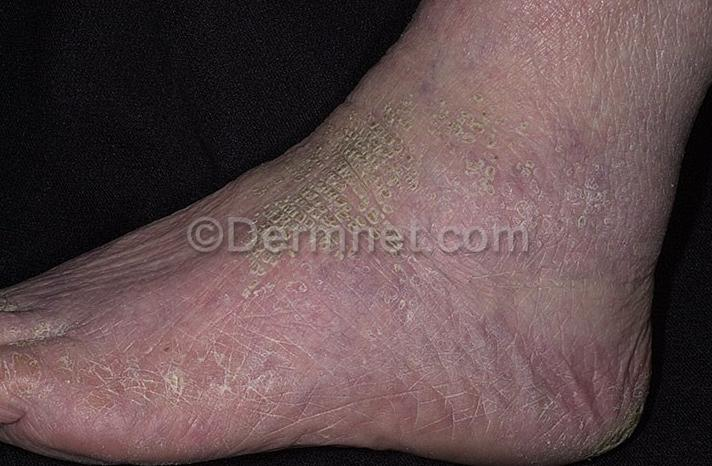liquenificacion 1: (0, 95, 628, 464)
xerosis 2: (234, 101, 628, 284), (28, 348, 301, 426), (559, 367, 647, 459)
